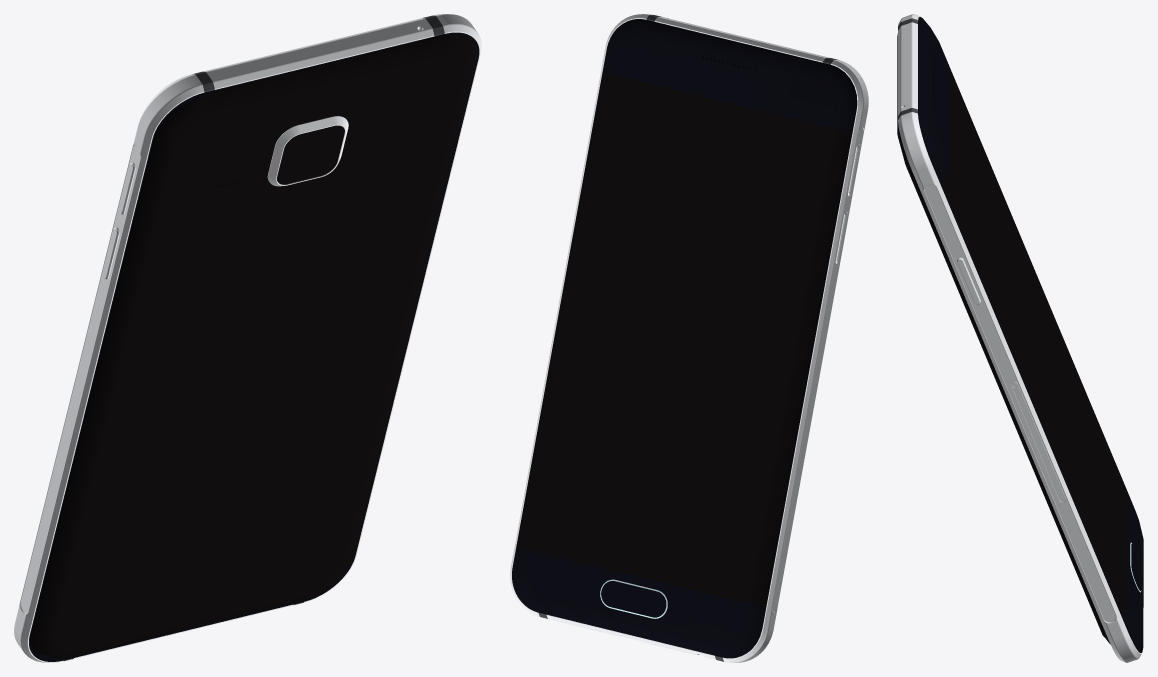
File: phone.glb
3 renders of one model, left to right at view 1: azimuth 30°, elevation 25°; view 2: azimuth 150°, elevation 25°; view 3: azimuth 270°, elevation 25°, orthographic. The views are drawn at different scales.
Size of the model in its own units: 64.91 by 126 by 51.35.
Materials: 3 (3 with a texture image).
